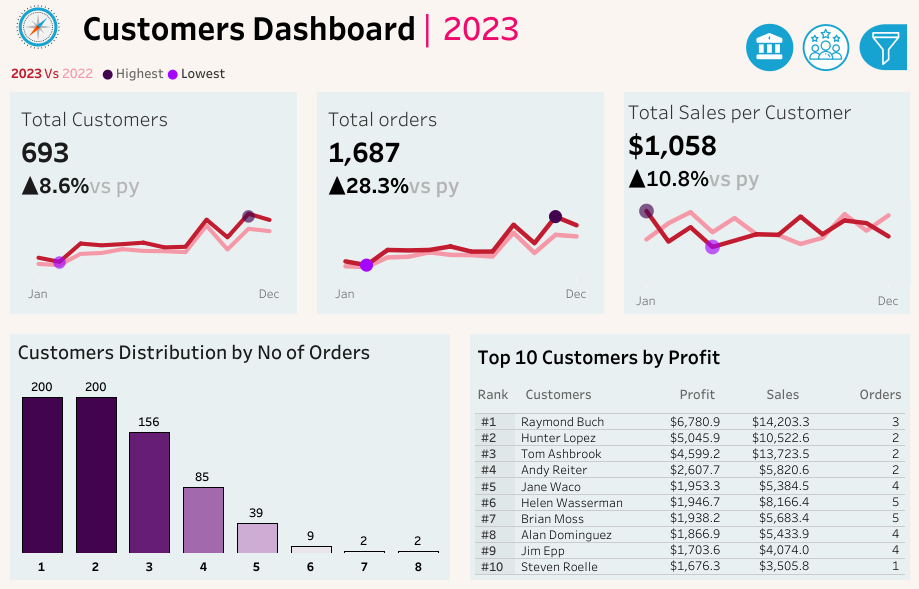

Layout of this report page (visuals, bound fields, positions):
{"tool":"tableau","page":{"name":"Customers Dashboard","canvas":[920,590],"ordinal":0},"visuals":[{"type":"image","param":"E:/projects/raw/Sales Dashboard Materials/Dashboard Icons/Icon - Logo.png","box":[0,0,76,54]},{"type":"text","box":[76,0,593,54]},{"type":"dashboard-object","box":[741,19,57,57]},{"type":"dashboard-object","box":[798,19,56,57]},{"type":"dashboard-object","box":[854,19,58,57]},{"type":"blank","box":[749,26,157,67]},{"type":"worksheet","title":"Legend Kpi","mark":"Automatic","box":[0,54,920,38]},{"type":"worksheet","title":"Total Customers","mark":"Automatic","rows":["Min/Max (Qty) (copy)_222083808557080584"],"cols":["Order Date"],"box":[0,92,307,232]},{"type":"worksheet","title":"Total Orders","mark":"Automatic","rows":["Min/Max (Customers) (copy)_222083808567730194"],"cols":["Order Date"],"box":[307,92,307,232]},{"type":"worksheet","title":"Total Sales per customer","mark":"Automatic","rows":["Min/Max (Customers) (copy)_222083808596971547"],"cols":["Order Date"],"box":[614,92,306,232]},{"type":"text","box":[749,93,157,34]},{"type":"parameter","param":"[Parameters].[Parameter 1]","box":[749,127,157,52]},{"type":"text","box":[749,179,157,25]},{"type":"blank","box":[749,204,157,39]},{"type":"filter","title":"Legend Kpi","param":"[federated.0tnq23c1e60oz2112m6gy0vhg2d8].[none:Category:nk]","box":[749,243,157,52]},{"type":"filter","title":"Legend Kpi","param":"[federated.0tnq23c1e60oz2112m6gy0vhg2d8].[none:Sub-Category:nk]","box":[749,295,157,52]},{"type":"text","box":[11,335,438,32]},{"type":"text","box":[471,335,438,42]},{"type":"text","box":[749,347,157,25]},{"type":"worksheet","title":"Customers Distribution","mark":"Automatic","rows":["Calculation_222083808550211585"],"cols":["Calculation_222083808602644508"],"box":[11,367,438,212]},{"type":"filter","title":"Legend Kpi","param":"[federated.0tnq23c1e60oz2112m6gy0vhg2d8].[none:Region:nk]","box":[749,372,157,52]},{"type":"text","box":[471,377,48,32]},{"type":"text","box":[519,377,154,32]},{"type":"text","box":[673,377,87,32]},{"type":"text","box":[760,377,93,32]},{"type":"text","box":[853,377,56,32]},{"type":"worksheet","title":"Top Customers","mark":"Automatic","rows":["Calculation_222083808616439839","Customer Name"],"box":[471,409,438,170]},{"type":"filter","title":"Legend Kpi","param":"[federated.0tnq23c1e60oz2112m6gy0vhg2d8].[none:State:nk]","box":[749,424,157,52]},{"type":"filter","title":"Legend Kpi","param":"[federated.0tnq23c1e60oz2112m6gy0vhg2d8].[none:City:nk]","box":[749,476,157,52]}]}

Visuals, with their boxes in screenshot pixels (x1, y1, x2, y2), scaled from the page's 920x590 canvas onto the 919x589 screenshot:
image: 0:0:76:54
text: 76:0:668:54
dashboard-object: 740:19:797:76
dashboard-object: 797:19:853:76
dashboard-object: 853:19:911:76
blank: 748:26:905:93
"Legend Kpi" worksheet: 0:54:918:92
"Total Customers" worksheet: 0:92:307:323
"Total Orders" worksheet: 307:92:613:323
"Total Sales per customer" worksheet: 613:92:918:323
text: 748:93:905:127
parameter: 748:127:905:179
text: 748:179:905:204
blank: 748:204:905:243
"Legend Kpi" filter: 748:243:905:294
"Legend Kpi" filter: 748:294:905:346
text: 11:334:449:366
text: 470:334:908:376
text: 748:346:905:371
"Customers Distribution" worksheet: 11:366:449:578
"Legend Kpi" filter: 748:371:905:423
text: 470:376:518:408
text: 518:376:672:408
text: 672:376:759:408
text: 759:376:852:408
text: 852:376:908:408
"Top Customers" worksheet: 470:408:908:578
"Legend Kpi" filter: 748:423:905:475
"Legend Kpi" filter: 748:475:905:527
